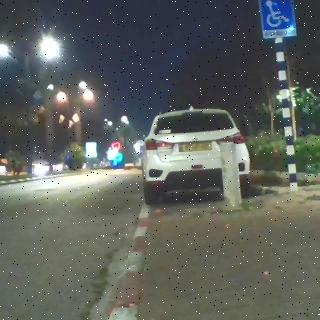LicensePlate: (183, 142, 212, 151)
